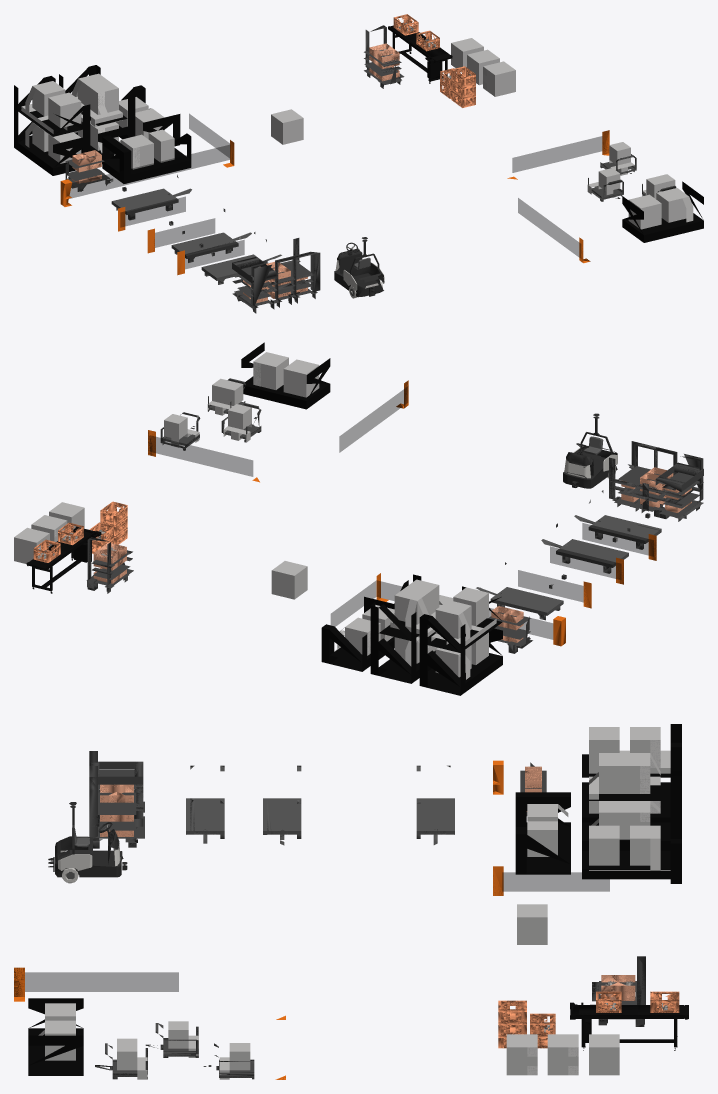
The model's file is factory-interior-2.glb.
The picture shows the model from 3 angles, top to bottom: view 1: azimuth 30°, elevation 25°; view 2: azimuth 150°, elevation 25°; view 3: azimuth 270°, elevation 25°; orthographic projection. The views are drawn at different scales.
Visible parts, largest first — view 1: Material004, Shelves, Baricade, Trolley_Stack (×3), Trollies_Large, Shader#116, Plastic Bins, Blk#2, Cones, Trolley Flat, Conveyer; view 2: Material004, Shelves, Baricade, Trolley_Stack (×3), Trollies_Large, Plastic Bins, Shader#116, Cones, Blk#2, Trolley Flat, Conveyer; view 3: Material004, Shelves, Baricade, Trolley_Stack (×3), Trollies_Large, Shader#116, Plastic Bins, Blk#2, Trolley Flat, Cones, Conveyer, White#3.
Part boxes in pixels (bbox=[...]): Material004: bbox=[21, 38, 693, 229]; Shelves: bbox=[14, 65, 703, 242]; Baricade: bbox=[69, 114, 601, 268]; Trolley_Stack (×3): bbox=[65, 25, 404, 308]; Trollies_Large: bbox=[110, 174, 281, 284]; Shader#116: bbox=[393, 14, 475, 107]; Plastic Bins: bbox=[72, 43, 399, 303]; Blk#2: bbox=[334, 237, 384, 297]; Cones: bbox=[60, 130, 609, 275]; Trolley Flat: bbox=[588, 154, 676, 201]; Conveyer: bbox=[389, 27, 449, 81]; Material004: bbox=[14, 352, 496, 679]; Shelves: bbox=[241, 342, 502, 695]; Baricade: bbox=[150, 387, 653, 639]; Trolley_Stack (×3): bbox=[86, 441, 703, 648]; Trollies_Large: bbox=[476, 490, 662, 620]; Plastic Bins: bbox=[93, 467, 691, 642]; Shader#116: bbox=[33, 501, 127, 562]; Cones: bbox=[148, 380, 656, 646]; Blk#2: bbox=[563, 413, 617, 488]; Trolley Flat: bbox=[160, 378, 261, 450]; Conveyer: bbox=[29, 528, 94, 590]; Material004: bbox=[38, 727, 670, 1079]; Shelves: bbox=[28, 724, 681, 1075]; Baricade: bbox=[25, 872, 609, 991]; Trolley_Stack (×3): bbox=[89, 751, 645, 1019]; Trollies_Large: bbox=[186, 765, 454, 845]; Shader#116: bbox=[498, 991, 679, 1048]; Plastic Bins: bbox=[100, 766, 635, 1000]; Blk#2: bbox=[55, 802, 126, 877]; Trolley Flat: bbox=[95, 1023, 254, 1079]; Cones: bbox=[14, 760, 503, 1079]; Conveyer: bbox=[574, 1005, 684, 1047]; White#3: bbox=[58, 824, 120, 883].
Size of what is drawn, in the model's own units: 6.3 by 0.847 by 6.33.
